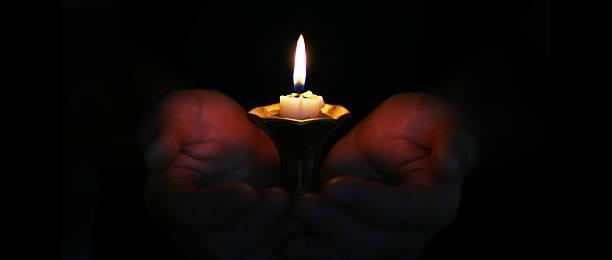Fire: (290, 31, 310, 91)
